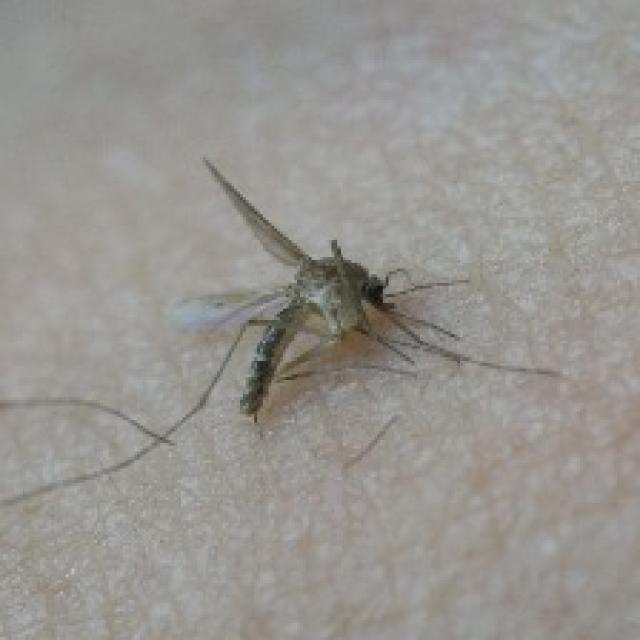culex: (0, 152, 563, 514)
